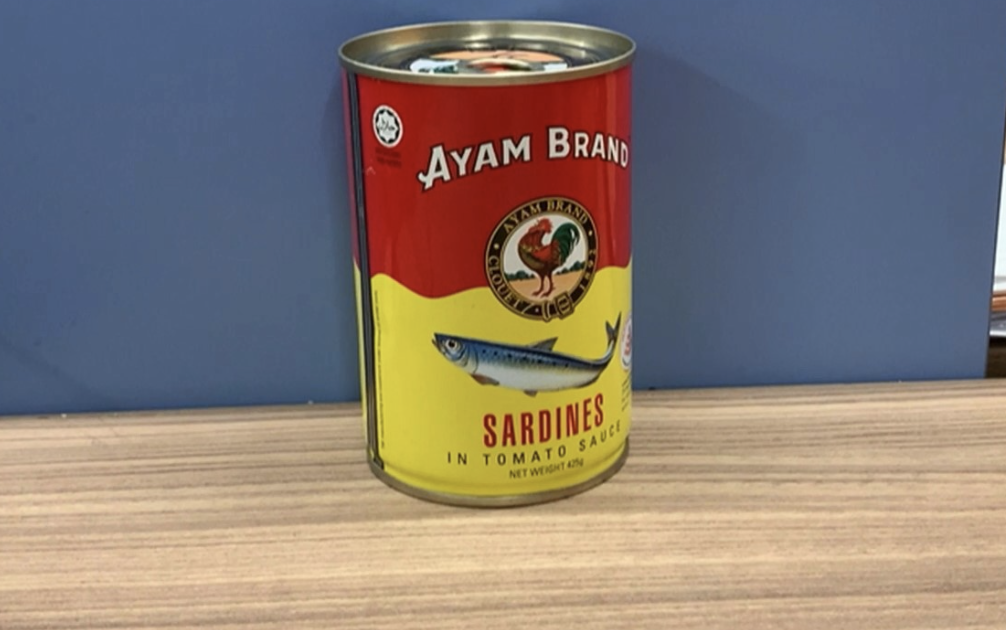sardines_400g-499g: (355, 76, 623, 467)
